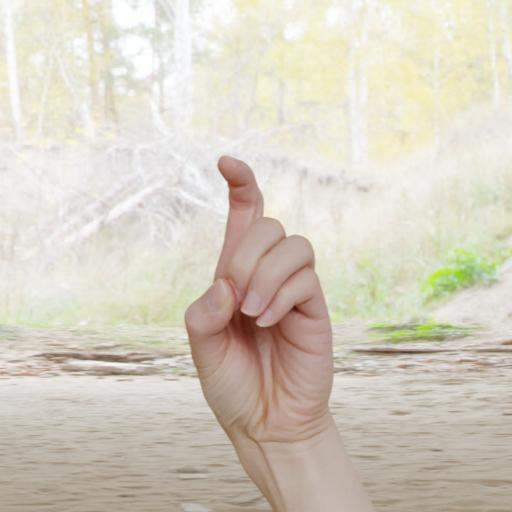X: (160, 148, 351, 456)
